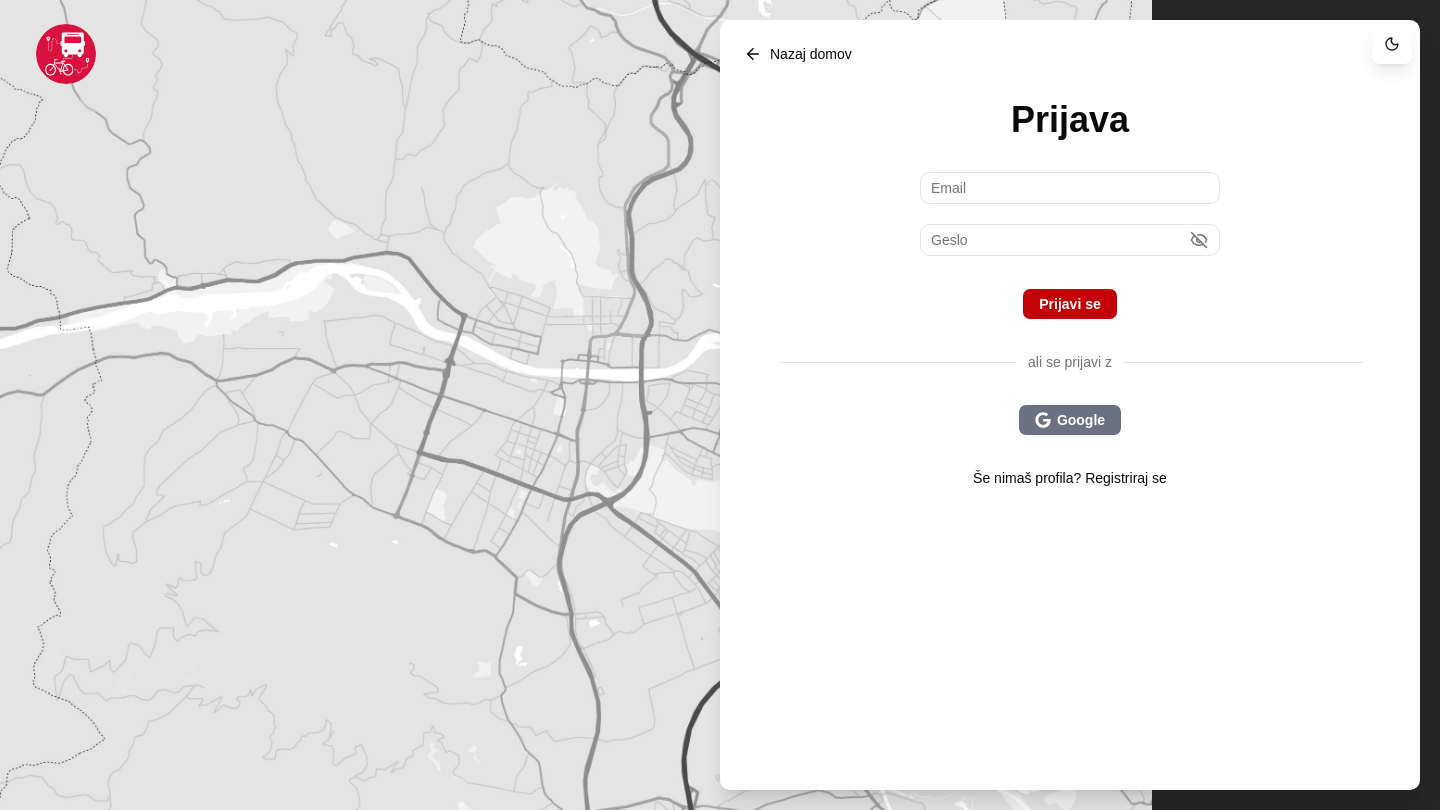
Scenario: integracijski Login in Register › Login omogoča prikaz gesla in navigacijo na register ter domov
The width and height of the screenshot is (1440, 810).
Click the button named "Prikaži geslo" at x=1199, y=240, box [1190,231,1208,249]
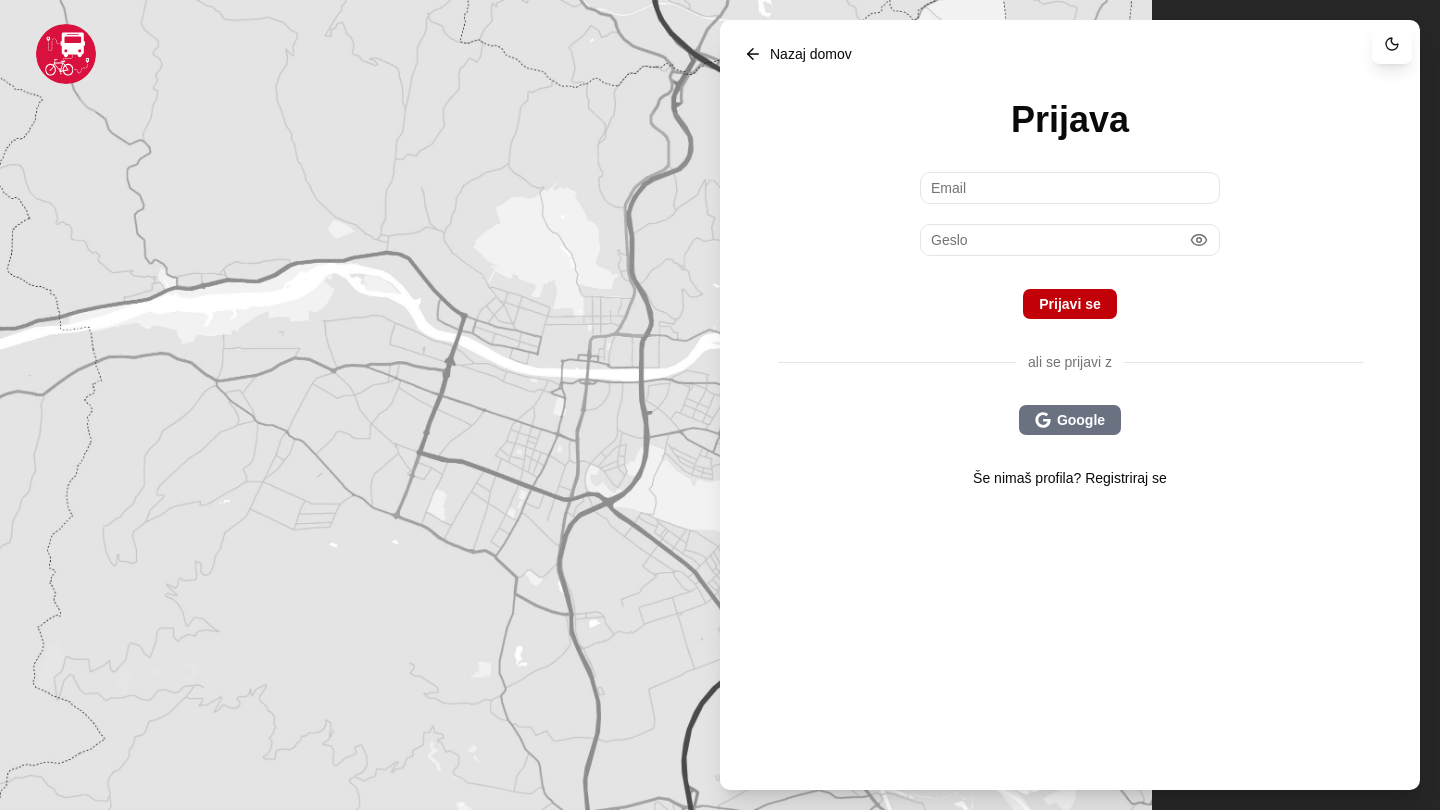
Click the button named "Skrij geslo" at x=1199, y=240, box [1190,231,1208,249]
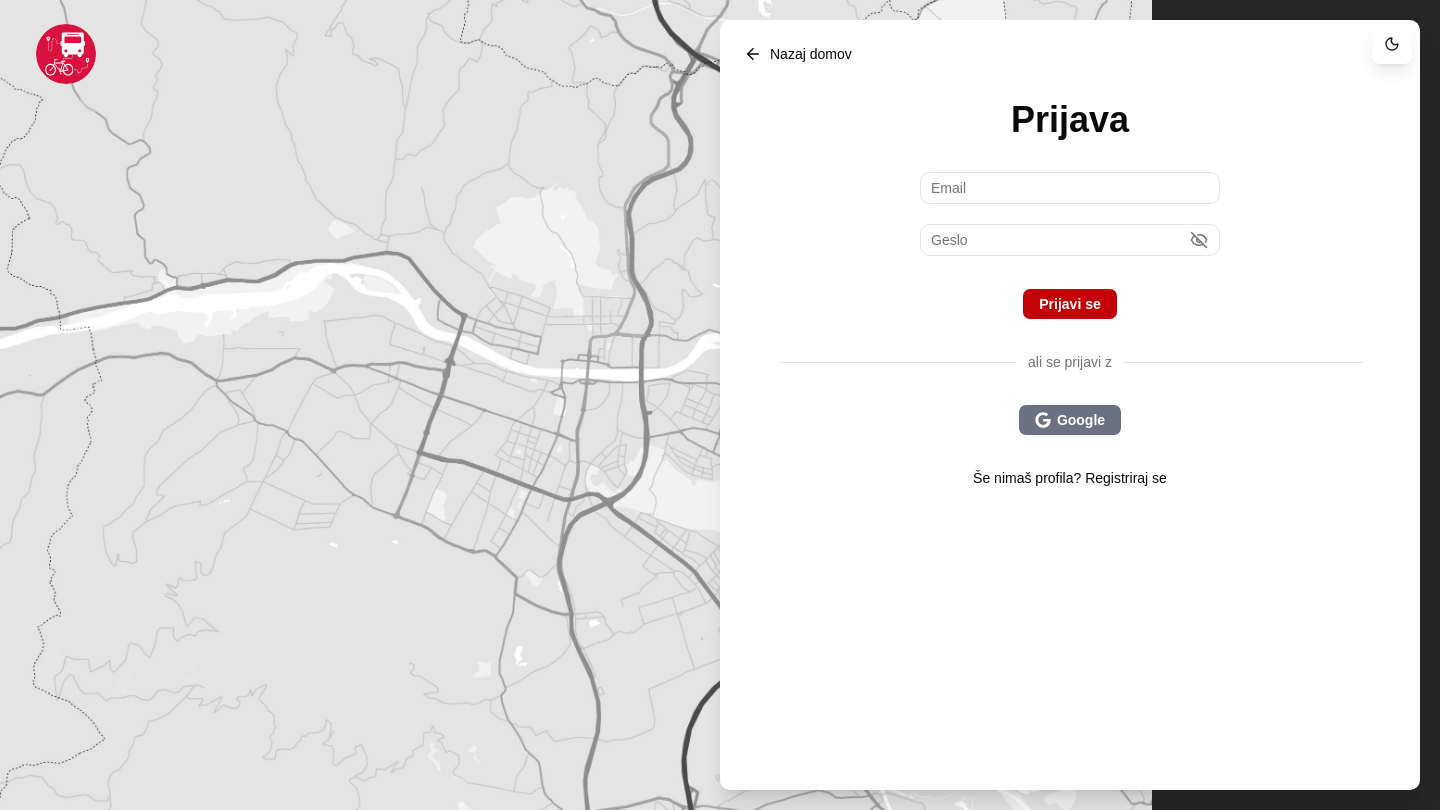
Click the button "Registriraj se" at x=1126, y=478, box [1085,468,1167,488]
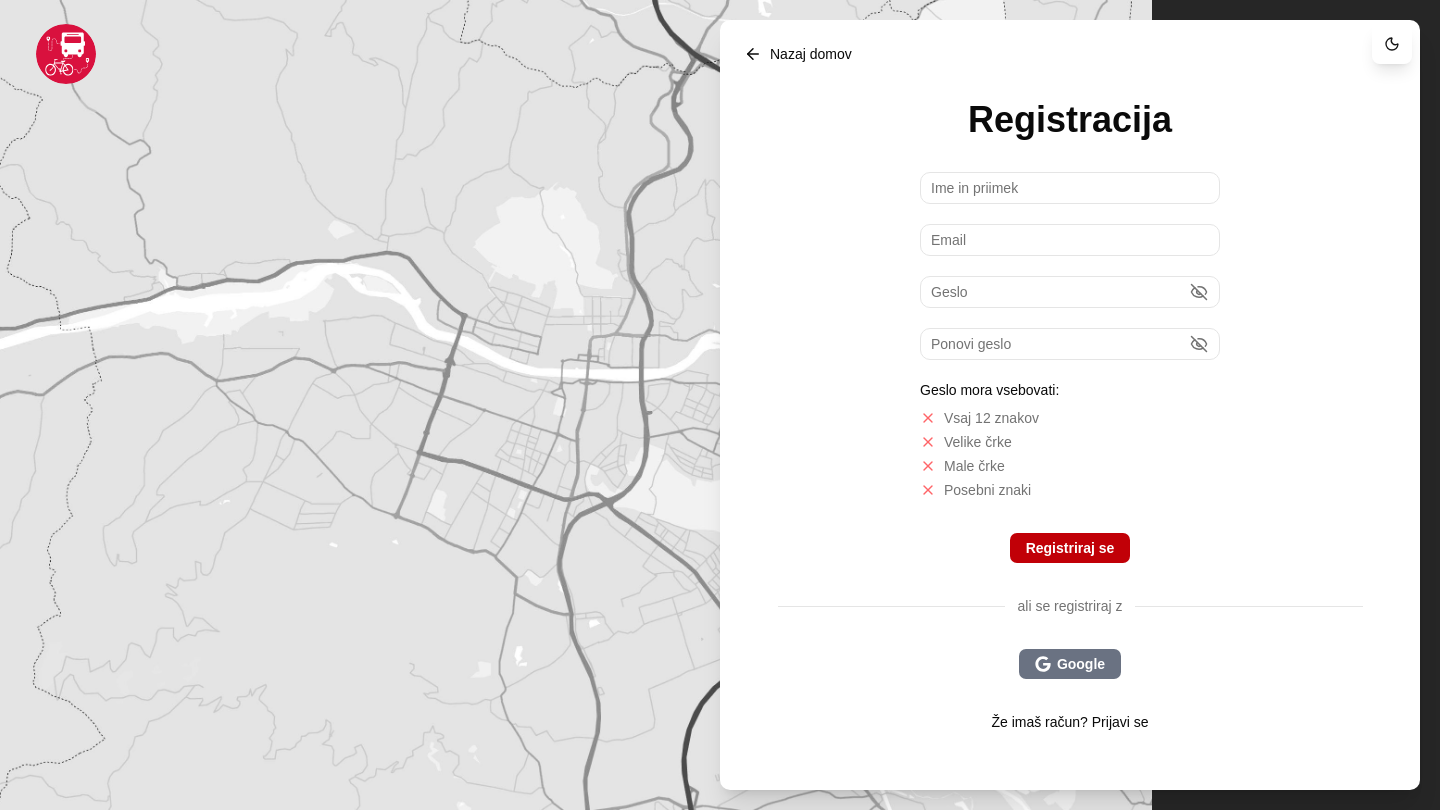
Check: the heading "Registracija" is shown, box [968,100,1172,140]
